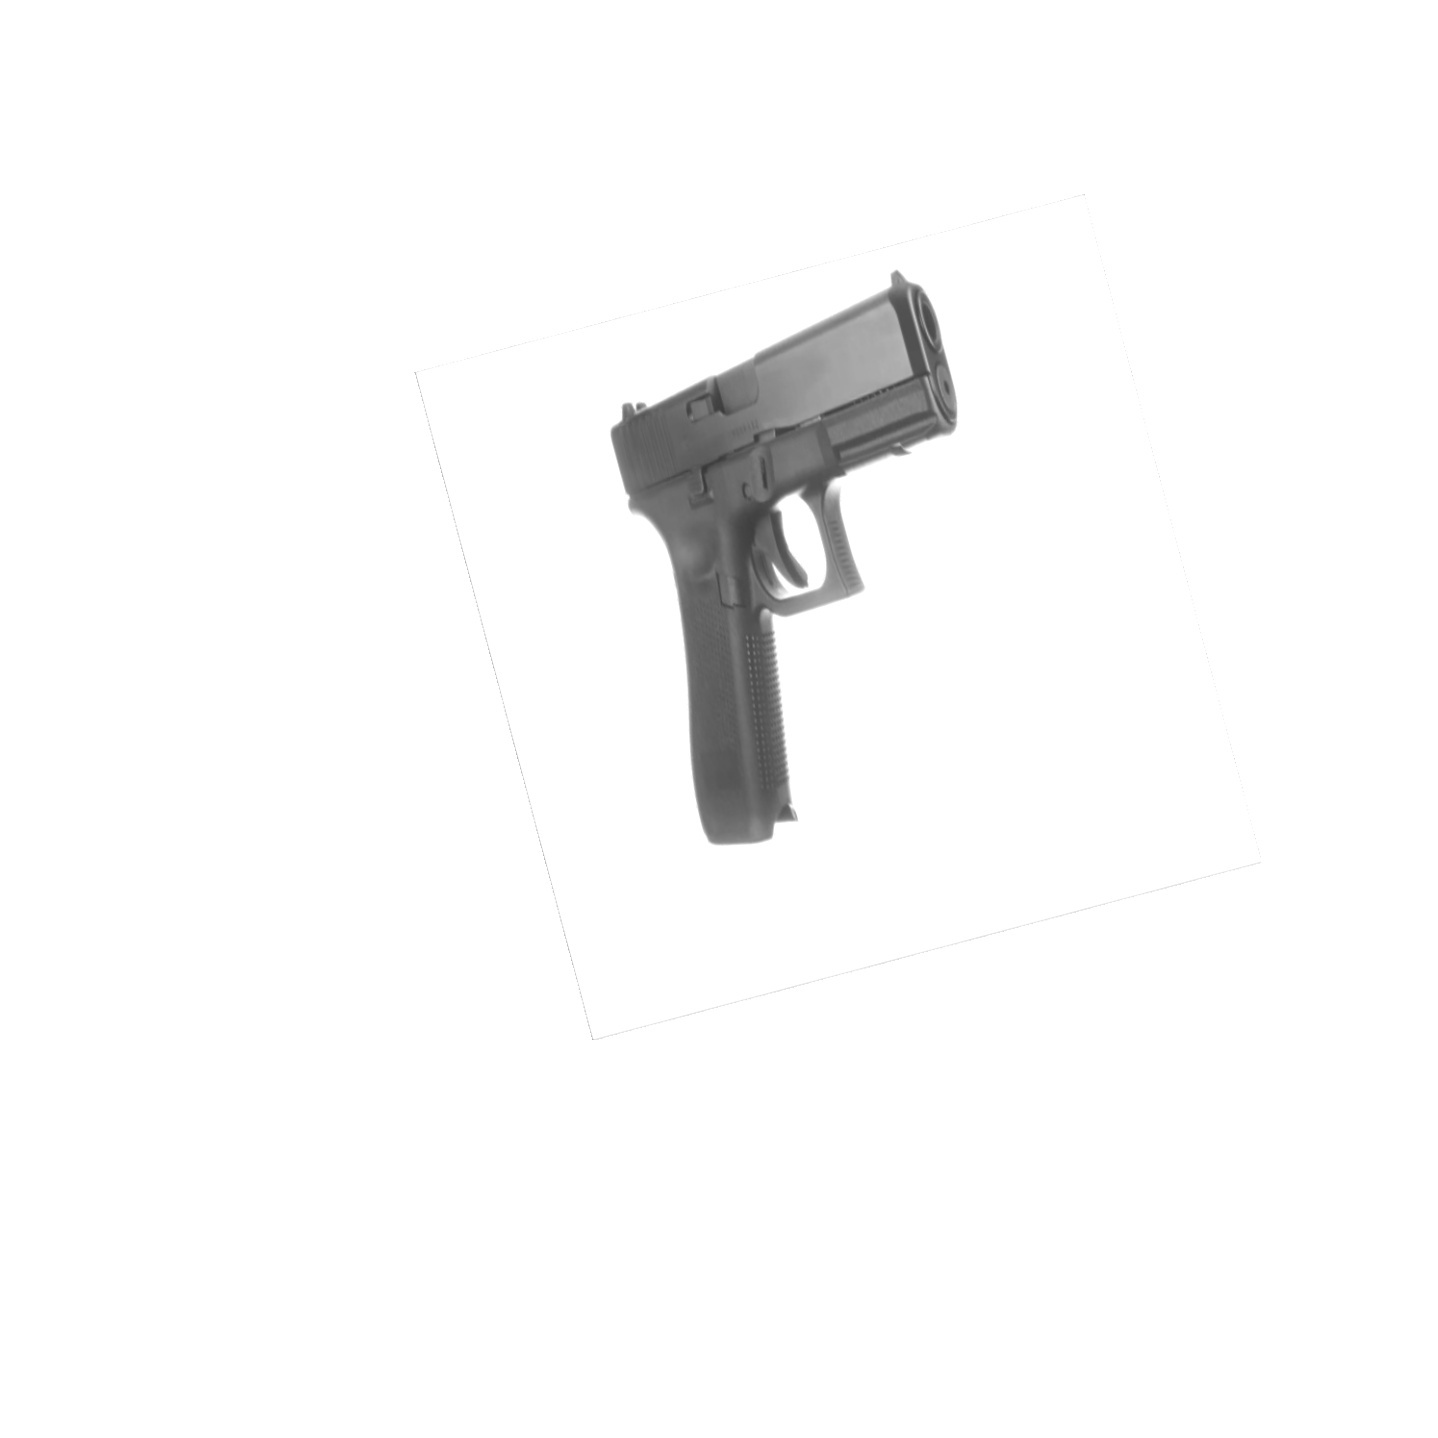gun: (610, 271, 961, 840)
